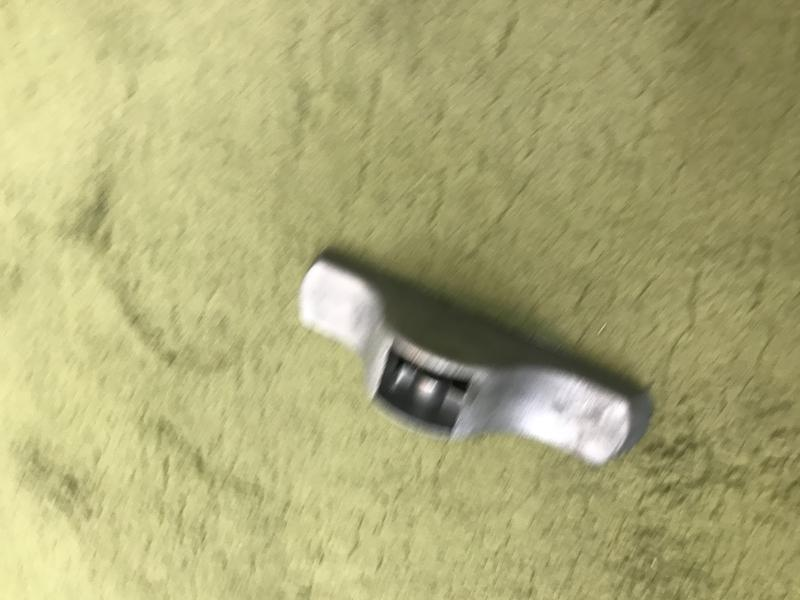zapchast: (274, 237, 666, 501)
